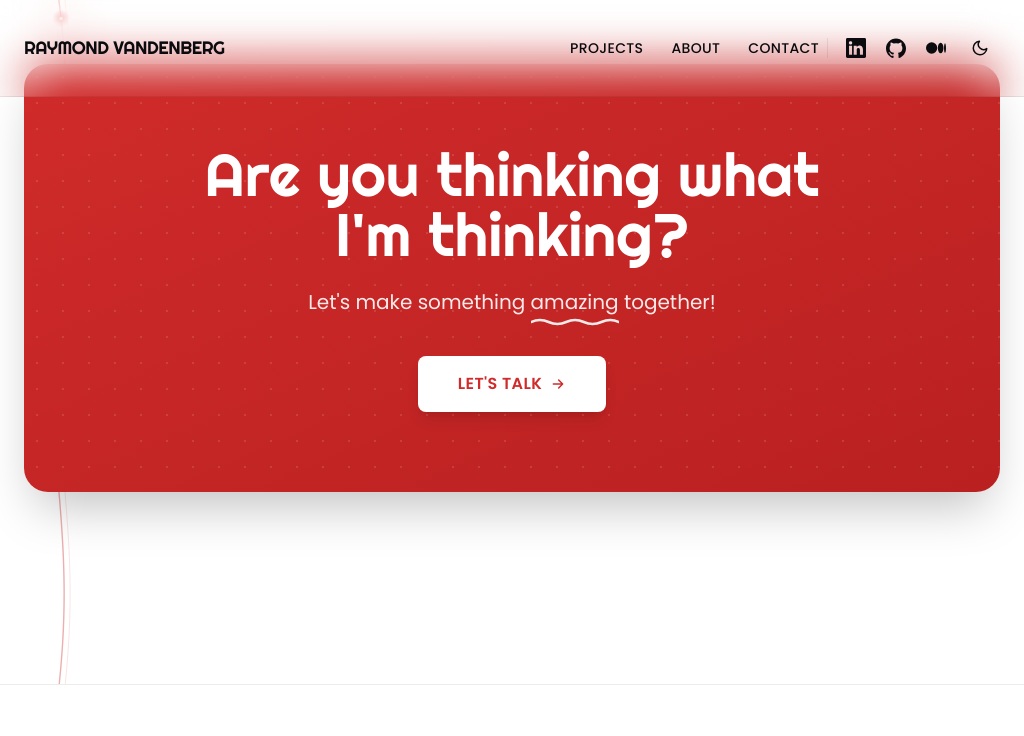
Test: Contact modal accessibility › exposes the fields once opened, and focuses the first one
(page scrolled)
Click the button "Let's Talk" at (512, 384), box [418, 356, 606, 412]
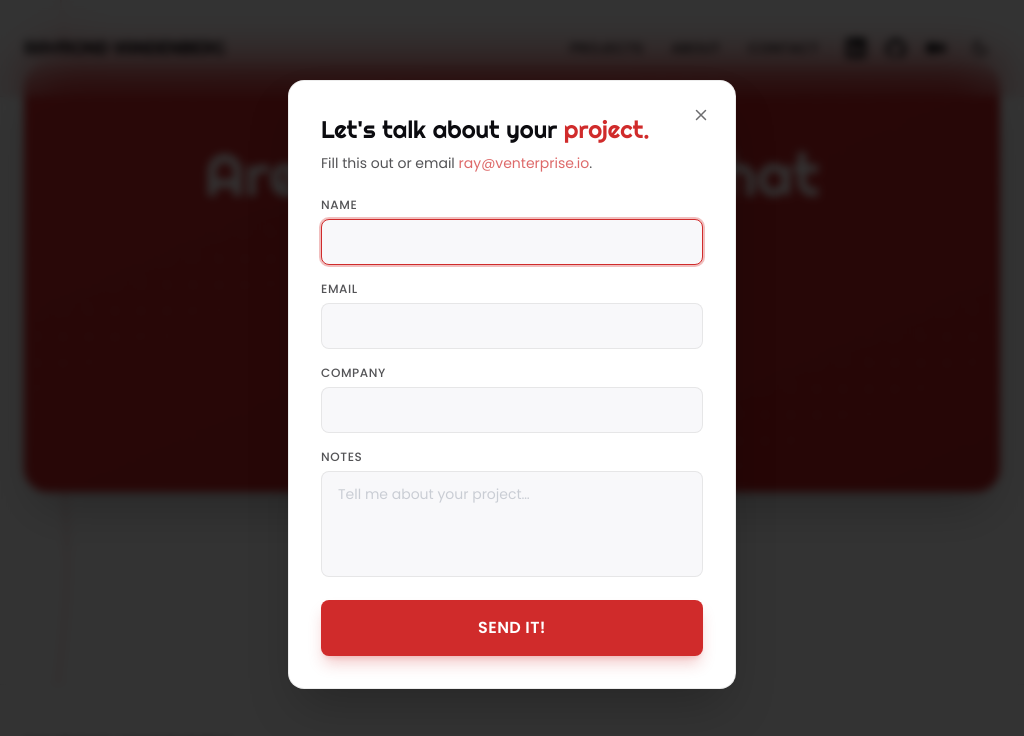
Expected: the dialog is shown, [288, 80, 736, 689]
Expected: the number of buttons is more than 0
